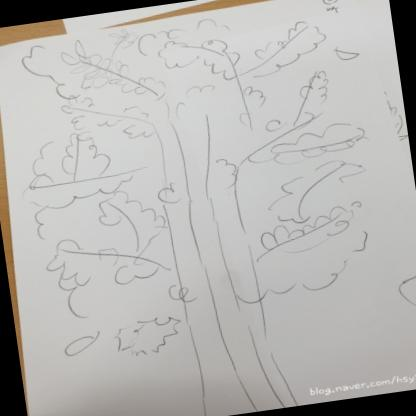crown_dizzy: (4, 0, 400, 359)
trunk_bark: (159, 216, 282, 379)
